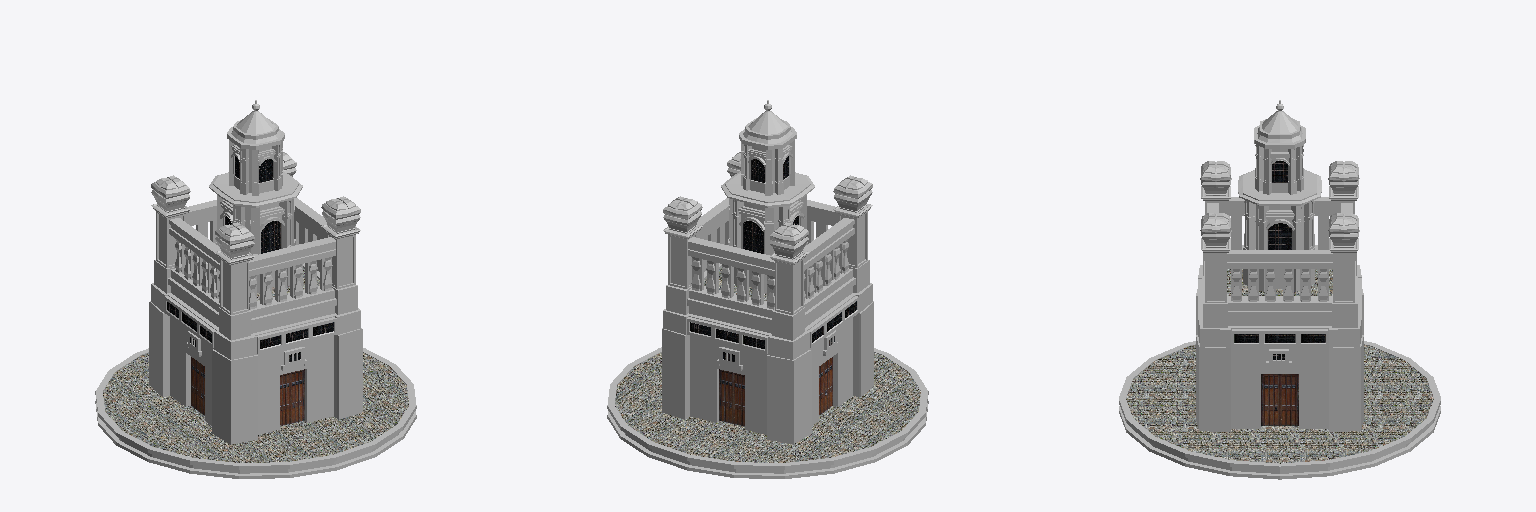
3 views of the same model, side by side, from view 1: azimuth 30°, elevation 25°; view 2: azimuth 150°, elevation 25°; view 3: azimuth 270°, elevation 25° (orthographic).
Parts seen in each view (by area): view 1: tower1, tower:Floor, tower:minitower; view 2: tower1, tower:Floor, tower:minitower; view 3: tower1, tower:Floor, tower:minitower.
Part boxes in pixels (bbox=[...]): tower1: bbox=[149, 152, 362, 444]; tower:Floor: bbox=[95, 348, 416, 478]; tower:minitower: bbox=[209, 100, 302, 292]; tower1: bbox=[662, 152, 873, 444]; tower:Floor: bbox=[607, 347, 928, 478]; tower:minitower: bbox=[721, 100, 814, 292]; tower1: bbox=[1196, 161, 1363, 431]; tower:Floor: bbox=[1119, 341, 1440, 479]; tower:minitower: bbox=[1238, 100, 1321, 291].
Bounding box in the file's own units: 2.07 × 2.2 × 2.07.
5 materials, 3 textured.